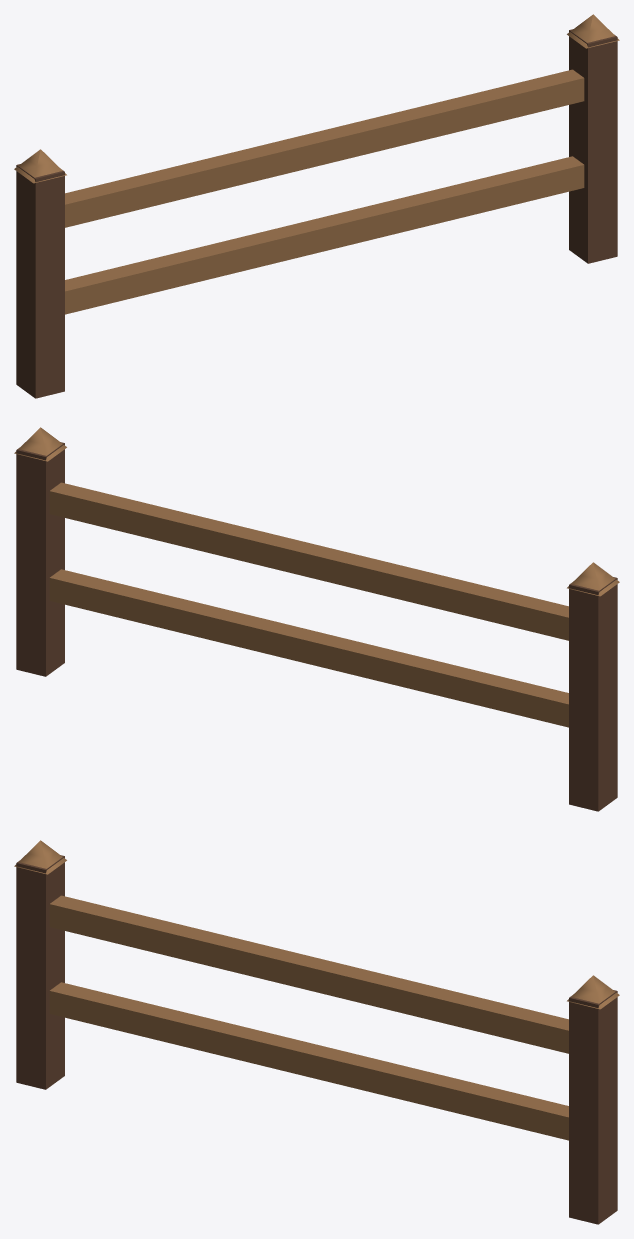
Rendered from Fence_Rail.glb.
The picture shows the model from 3 angles, top to bottom: view 1: azimuth 30°, elevation 25°; view 2: azimuth 150°, elevation 25°; view 3: azimuth 330°, elevation 25°; orthographic projection.
Parts seen in each view (by area): view 1: _MeshInstance3D_4119, _MeshInstance3D_4120, _MeshInstance3D_4115, _MeshInstance3D_4117, _MeshInstance3D_4116, _MeshInstance3D_4118; view 2: _MeshInstance3D_4119, _MeshInstance3D_4120, _MeshInstance3D_4115, _MeshInstance3D_4117, _MeshInstance3D_4116, _MeshInstance3D_4118; view 3: _MeshInstance3D_4119, _MeshInstance3D_4120, _MeshInstance3D_4117, _MeshInstance3D_4115, _MeshInstance3D_4118, _MeshInstance3D_4116.
Part boxes in pixels (x1,y1,x2,y2): _MeshInstance3D_4119: [65, 156, 584, 314]; _MeshInstance3D_4120: [65, 69, 584, 227]; _MeshInstance3D_4115: [16, 164, 64, 398]; _MeshInstance3D_4117: [569, 29, 617, 263]; _MeshInstance3D_4116: [14, 149, 66, 183]; _MeshInstance3D_4118: [567, 14, 619, 48]; _MeshInstance3D_4119: [49, 569, 568, 727]; _MeshInstance3D_4120: [49, 482, 568, 640]; _MeshInstance3D_4115: [569, 577, 617, 811]; _MeshInstance3D_4117: [16, 442, 64, 676]; _MeshInstance3D_4116: [567, 562, 619, 596]; _MeshInstance3D_4118: [14, 427, 66, 461]; _MeshInstance3D_4119: [49, 982, 568, 1140]; _MeshInstance3D_4120: [49, 895, 568, 1053]; _MeshInstance3D_4117: [569, 990, 617, 1224]; _MeshInstance3D_4115: [16, 855, 64, 1089]; _MeshInstance3D_4118: [567, 975, 619, 1009]; _MeshInstance3D_4116: [14, 840, 66, 874].
Size of the model in its own units: 3.18 by 1.24 by 0.1838.
